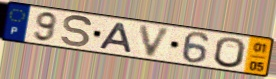6: (181, 31, 211, 65)
9: (32, 11, 60, 44)
A: (98, 21, 134, 55)
O: (213, 36, 248, 70)
S: (60, 14, 94, 49)
V: (138, 24, 174, 59)
